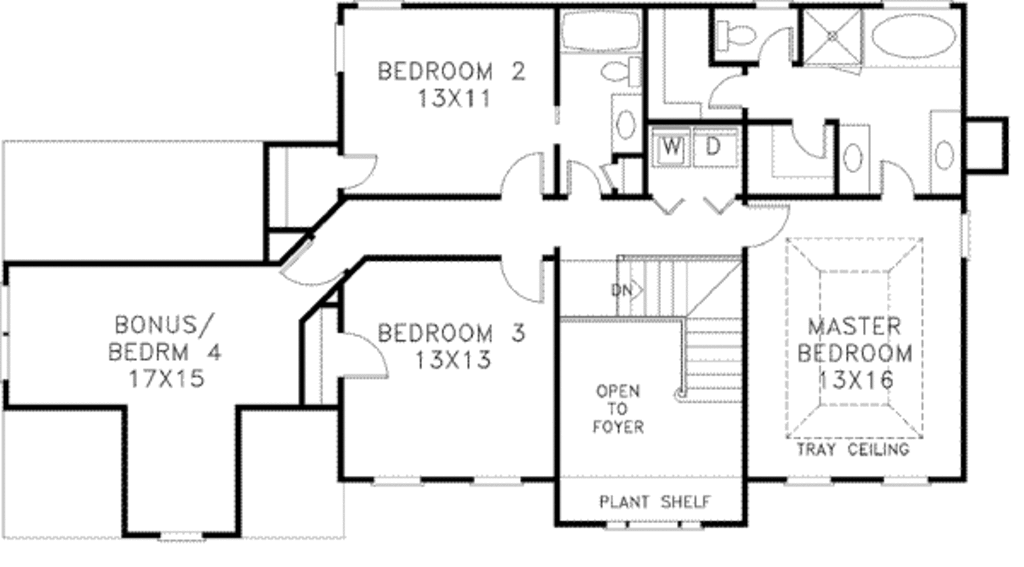door: (279, 238, 344, 283), (338, 329, 390, 383), (497, 251, 546, 305), (740, 198, 789, 249), (495, 151, 550, 196), (337, 147, 380, 196), (877, 157, 917, 203), (789, 113, 829, 158), (563, 159, 602, 203), (757, 26, 797, 68), (706, 73, 749, 111)
large_sink: (711, 11, 757, 58), (594, 56, 642, 94)
small_sink: (928, 111, 963, 194), (840, 126, 874, 206), (605, 92, 646, 154)
stairs: (612, 256, 745, 404)
tub: (862, 7, 961, 70), (553, 10, 640, 56)
windows: (465, 470, 521, 492), (599, 519, 707, 530), (879, 471, 933, 490), (332, 22, 347, 77), (368, 475, 419, 491), (780, 473, 831, 488)
